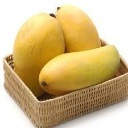mango: (13, 11, 65, 100)
